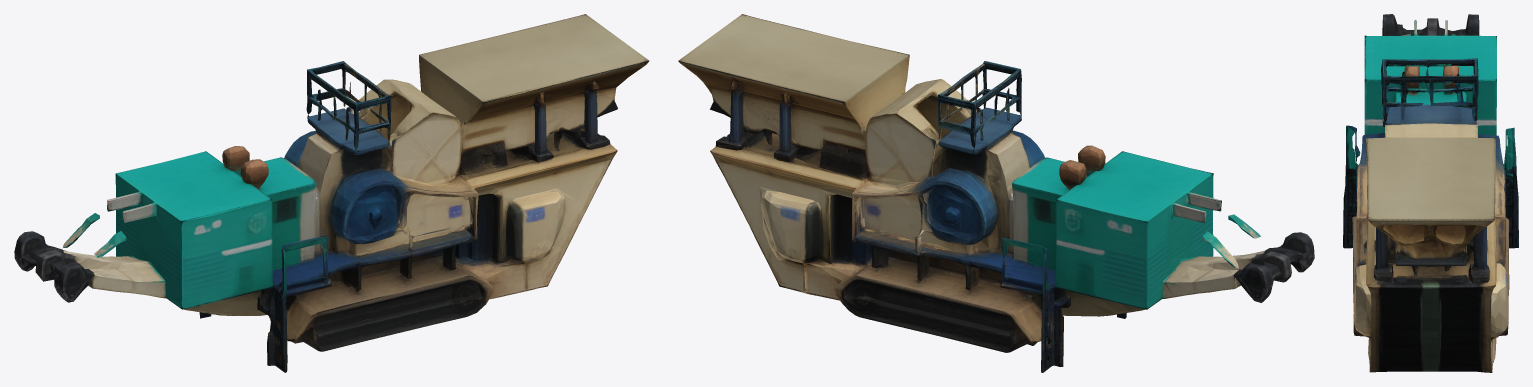
The model's file is track-mounted-mobile-project.glb.
3 views of the same model, side by side, from view 1: azimuth 30°, elevation 25°; view 2: azimuth 150°, elevation 25°; view 3: azimuth 270°, elevation 25° (orthographic).
Visible parts, largest first — view 1: world; view 2: world; view 3: world.
Boxes of the visible parts, x1,y1,x2,y2 form: world: (14, 14, 649, 372); world: (678, 14, 1314, 372); world: (1343, 14, 1518, 372).
Size of the model in its own units: 0.9995 by 0.3827 by 0.2621.
1 material, 1 textured.
